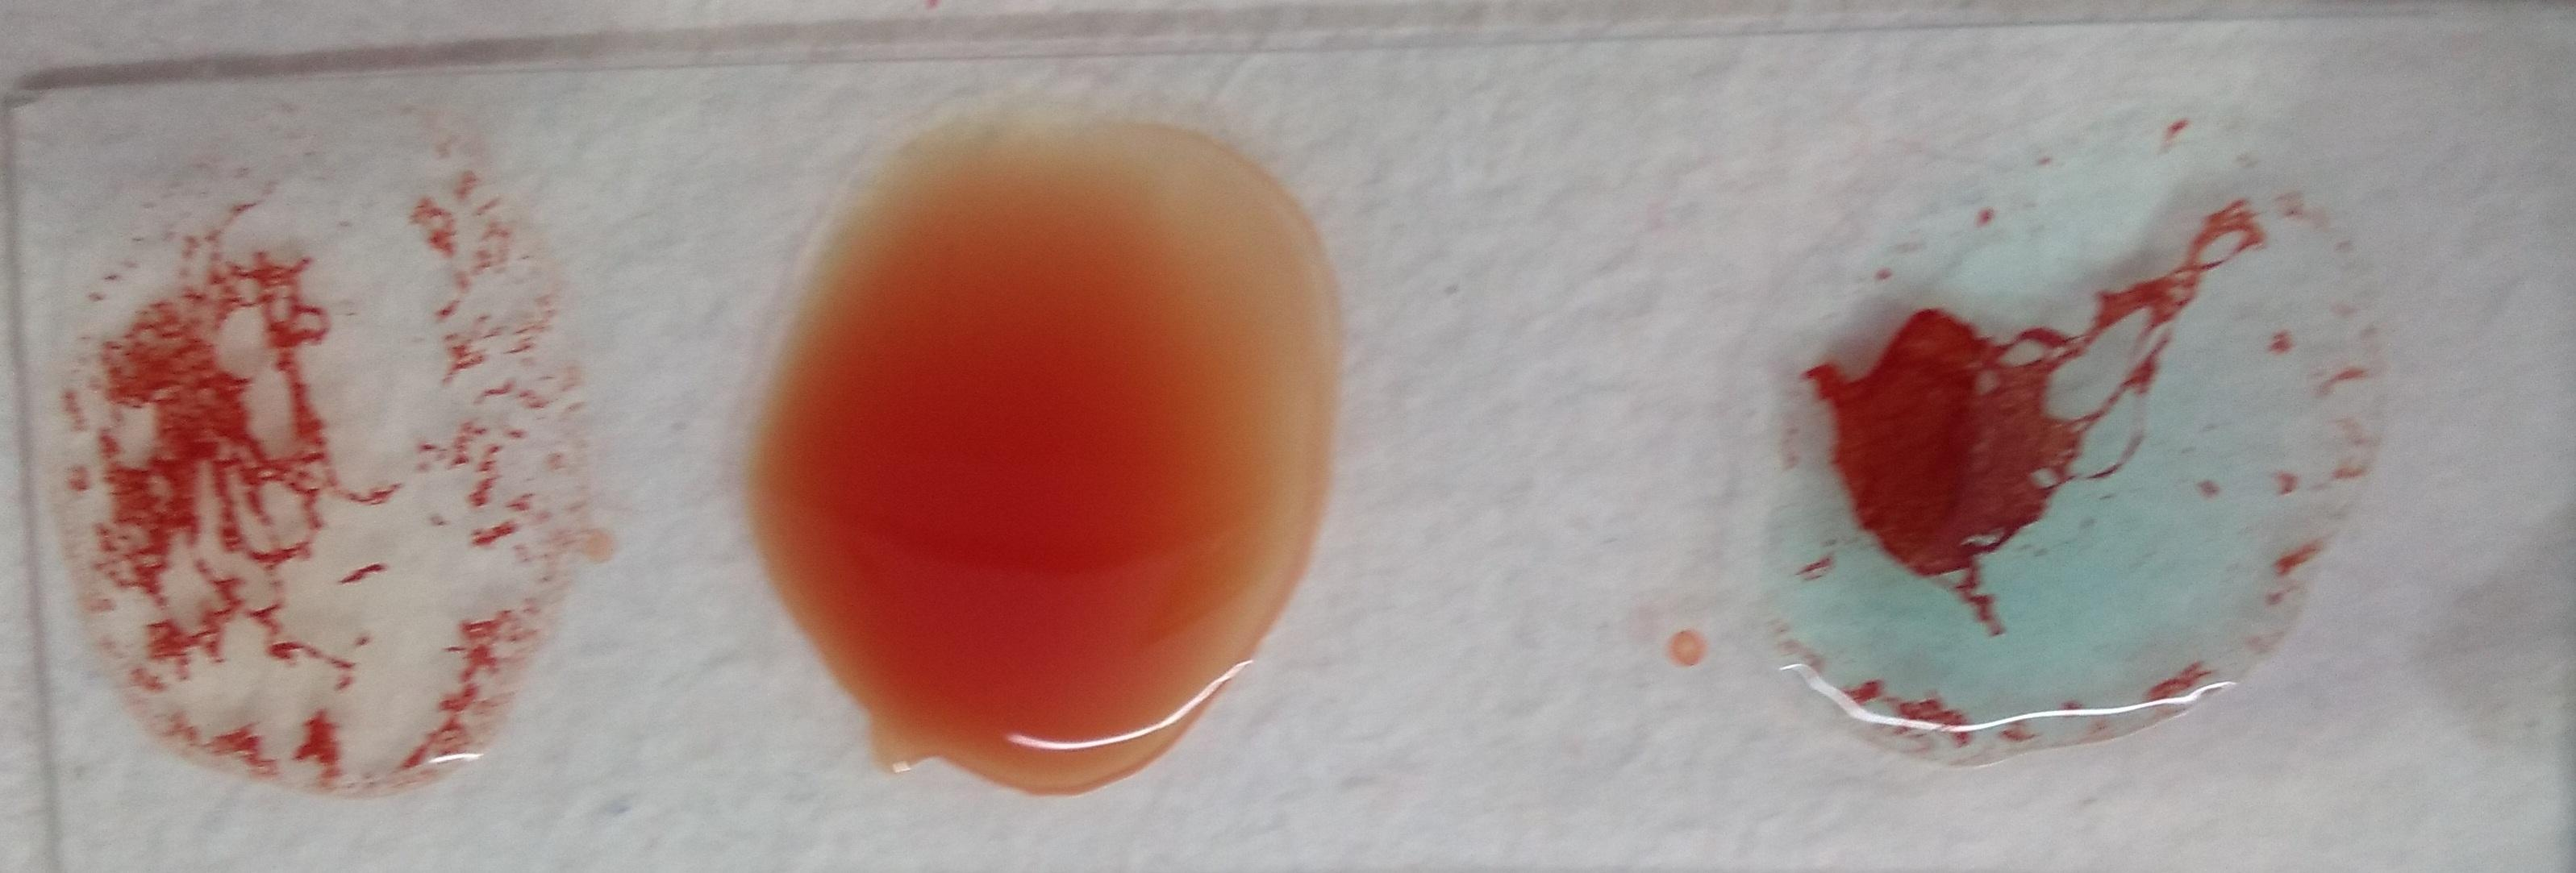A: (1769, 121, 2389, 737)
D: (66, 139, 601, 793)
